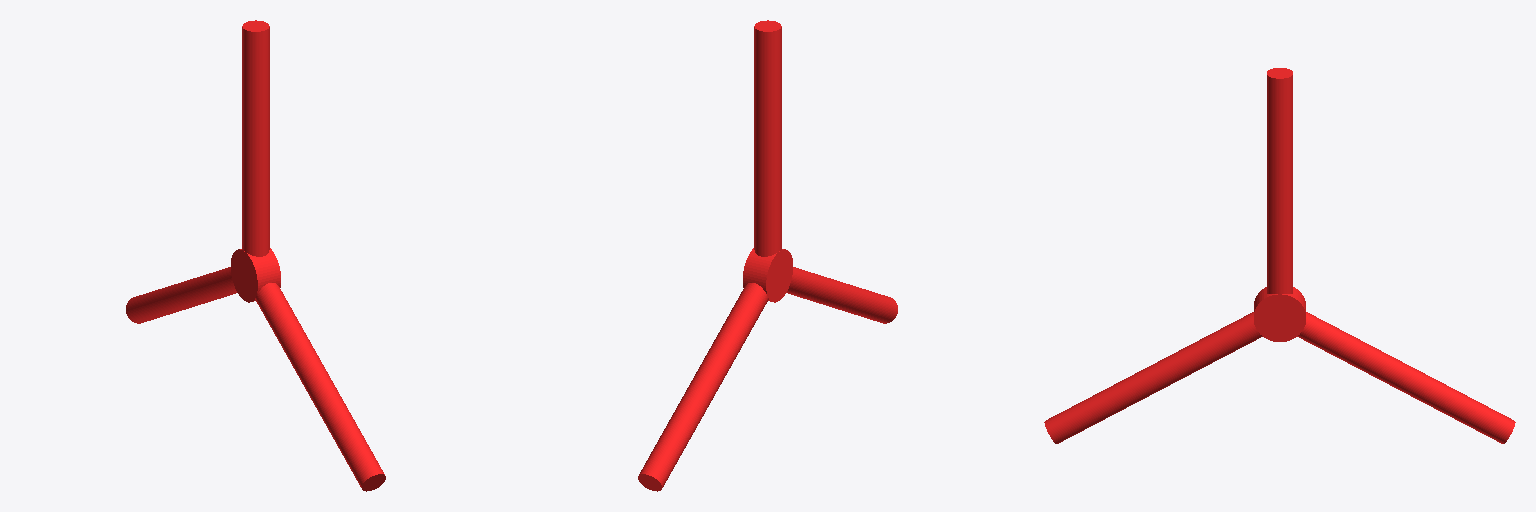
robot.urdf — valve:
<?xml version="1.0" encoding="utf-8"?>
<!-- This URDF was automatically created by SolidWorks to URDF Exporter! Originally created by [author] ([email redacted]) 
     Commit Version: 1.6.0-4-g7f85cfe  Build Version: 1.6.7995.38578
     For more information, please see http://wiki.ros.org/sw_urdf_exporter -->
<robot
  name="valve">
  <link
    name="base_link">
    <inertial>
      <origin
        xyz="0 0 0"
        rpy="0 0 0" />
      <mass
        value="100.13" />
      <inertia
        ixx="33.355"
        ixy="6.0485E-32"
        ixz="-6.996E-17"
        iyy="8.3546"
        iyz="-1.3854E-16"
        izz="41.667" />
    </inertial>
    <!-- <visual>
      <origin
        xyz="0 0 0"
        rpy="0 0 0" />
      <geometry>
        <mesh
          filename="package://valve/meshes/base_link.STL" />
      </geometry>
      <material
        name="al">
        <color
          rgba="1 1 1 1" />
      </material>
    </visual> -->
    <!-- <collision>
      <origin
        xyz="0 0 0"
        rpy="0 0 0" />
      <geometry>
        <mesh
          filename="package://valve/meshes/base_link.STL" />
      </geometry>
    </collision> -->
  </link>
  <link
    name="link_1">
    <inertial>
      <origin
        xyz="0 0 0"
        rpy="0 0 0" />
      <mass
        value="0.4113" />
      <inertia
        ixx="0.002865"
        ixy="3.1279E-09"
        ixz="2.2416E-09"
        iyy="0.002865"
        iyz="-3.0169E-10"
        izz="0.0056824" />
    </inertial>
    <visual>
      <origin
        xyz="0 0 0"
        rpy="0 0 0" />
      <geometry>
        <mesh
          filename="package://valve/meshes/valve.obj" />
      </geometry>
      <material
        name="al">
        <color
          rgba="1 0.2 0.2 1" />
      </material>
    </visual>
    <collision>
      <origin
        xyz="0 0 0"
        rpy="0 0 0" />
      <geometry>
        <mesh
          filename="package://valve/meshes/valve.obj" />
      </geometry>
    </collision>
  </link>
  <joint
    name="joint_1"
    type="fixed">
    <origin
      xyz="0 -0.115 0"
      rpy="1.5707963267949 0 0" />
    <parent
      link="base_link" />
    <child
      link="link_1" />
    <axis
      xyz="0 0 0" />
  </joint>
</robot>

--- Render facts (derived) ---
The picture shows the robot from 3 angles, left to right: view 1: azimuth 30°, elevation 25°; view 2: azimuth 150°, elevation 25°; view 3: azimuth 270°, elevation 25°; orthographic projection.
Robot: valve — 2 links, 1 joints (1 fixed); root link base_link; default pose: all joints at 0.
Links seen in each view (by area): view 1: link_1; view 2: link_1; view 3: link_1.
Link boxes in pixels (<box>): link_1: <box>126,20,385,491</box>; link_1: <box>638,20,897,491</box>; link_1: <box>1044,68,1515,443</box>.
Size in the robot's own frame: 0.03 by 0.5346 by 0.463 metres.
1 mesh visuals loaded from 1 distinct referenced files (1 OBJ).